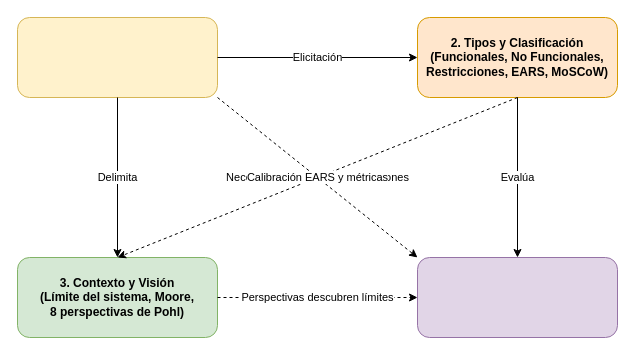
This 635x355 diagram has some shape labels left out. The centre of each missing label's shape, as x and y in pixels:
1. Fundamentos de IR (IEEE 29148, Pohl, SWEBOK) Necesidad vs. Requisito: (117,57)
4. Calidad y Validación (ISO/IEC 25010, Métricas, Trazabilidad, Pruebas): (517,297)
